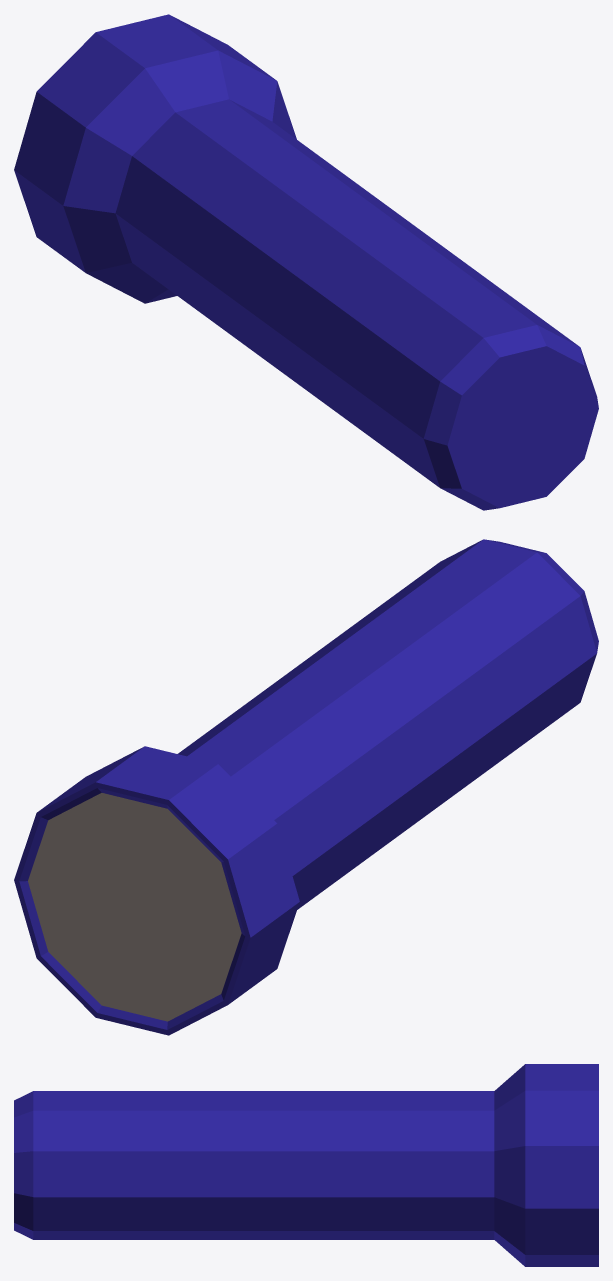
File: torch.obj
3 views of the same model, one above another, from view 1: azimuth 30°, elevation 25°; view 2: azimuth 150°, elevation 25°; view 3: azimuth 270°, elevation 25° (orthographic). The views are drawn at different scales.
Parts seen in each view (by area): view 1: ShapeIndexedFaceSet_ShapeIndexedFaceSet.001; view 2: ShapeIndexedFaceSet_ShapeIndexedFaceSet.001, ShapeIndexedFaceSet.001_ShapeIndexedFaceSet; view 3: ShapeIndexedFaceSet_ShapeIndexedFaceSet.001.
Part boxes in pixels (bbox=[...]): ShapeIndexedFaceSet_ShapeIndexedFaceSet.001: bbox=[14, 14, 598, 510]; ShapeIndexedFaceSet_ShapeIndexedFaceSet.001: bbox=[14, 539, 598, 1035]; ShapeIndexedFaceSet.001_ShapeIndexedFaceSet: bbox=[28, 793, 241, 1021]; ShapeIndexedFaceSet_ShapeIndexedFaceSet.001: bbox=[14, 1064, 598, 1266].
Size of the model in its own units: 2.12 by 2.02 by 6.08.
